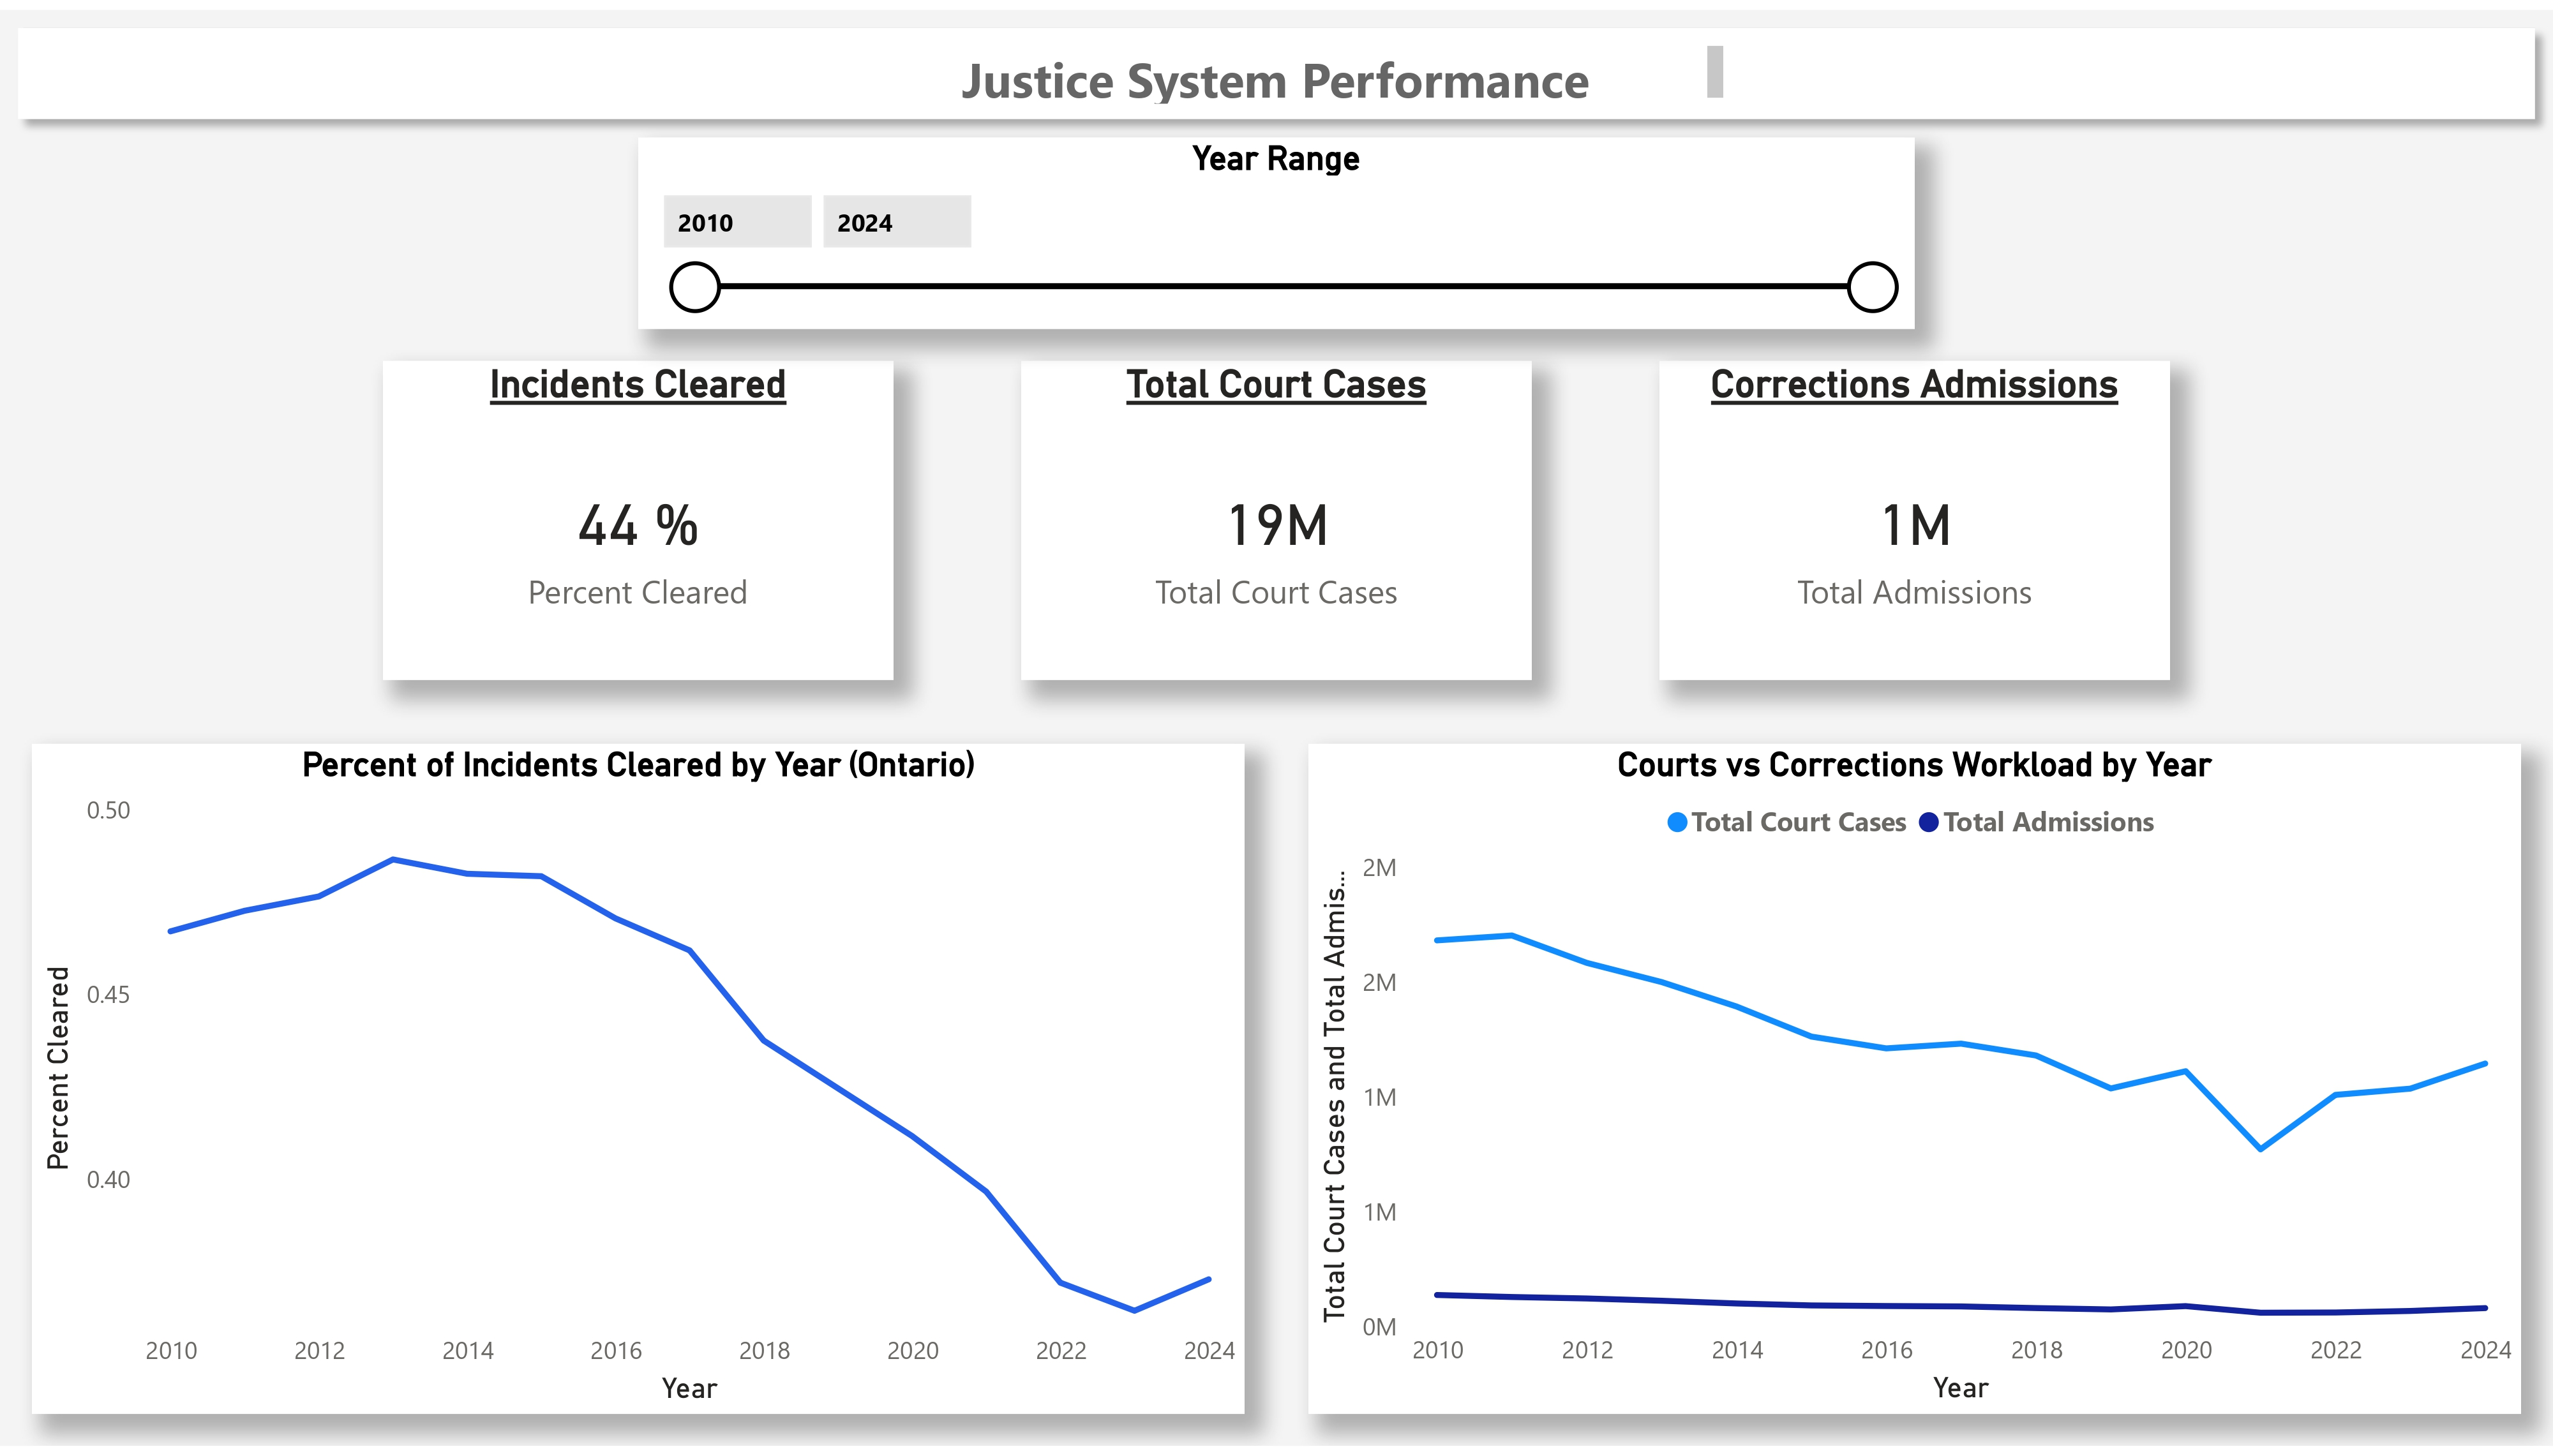

The page's visual inventory and layout, read from the dashboard file:
{"tool":"powerbi","page":{"name":"Justice System Performance","canvas":[1280,720],"ordinal":4},"visuals":[{"type":"shape","box":[0,0,1280,63.8],"z":0},{"type":"textbox","box":[417.5,12.5,451.2,38.8],"z":1000},{"type":"card","title":"Incidents Cleared","fields":{"Values":["crime_annual_ontario.Percent Cleared"]},"box":[192,176,256,160],"z":2000},{"type":"card","title":"Total Court Cases","fields":{"Values":["court_flow_annual.Total Court Cases"]},"box":[512,176,256,160],"z":3000},{"type":"card","title":"Corrections Admissions","fields":{"Values":["corrections_annual.Total Admissions"]},"box":[832,176,256,160],"z":4000},{"type":"slicer","title":"Year Range","fields":{"Values":["Calendar.Year"]},"box":[320,64,640,96],"z":5000},{"type":"lineChart","title":"Percent of Incidents Cleared by Year (Ontario)","fields":{"Category":["Calendar.Year"],"Y":["crime_annual_ontario.Percent Cleared"]},"box":[16,368,608,336],"z":6000},{"type":"lineChart","title":"Courts vs Corrections Workload by Year","fields":{"Category":["Calendar.Year"],"Y":["court_flow_annual.Total Court Cases","corrections_annual.Total Admissions"]},"box":[656,368,608,336],"z":7000}]}

Visuals, with their boxes in screenshot pixels (x1, y1, x2, y2), scaled from the page's 1280x720 canvas onto the 2553x1456 screenshot:
shape: <box>0,0,2552,129</box>
textbox: <box>833,26,1733,104</box>
"Incidents Cleared" card: <box>383,356,894,680</box>
"Total Court Cases" card: <box>1021,356,1532,680</box>
"Corrections Admissions" card: <box>1659,356,2170,680</box>
"Year Range" slicer: <box>638,130,1915,323</box>
"Percent of Incidents Cleared by Year (Ontario)" lineChart: <box>32,744,1245,1423</box>
"Courts vs Corrections Workload by Year" lineChart: <box>1308,744,2521,1423</box>
